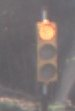Red: (32, 21, 62, 89)
